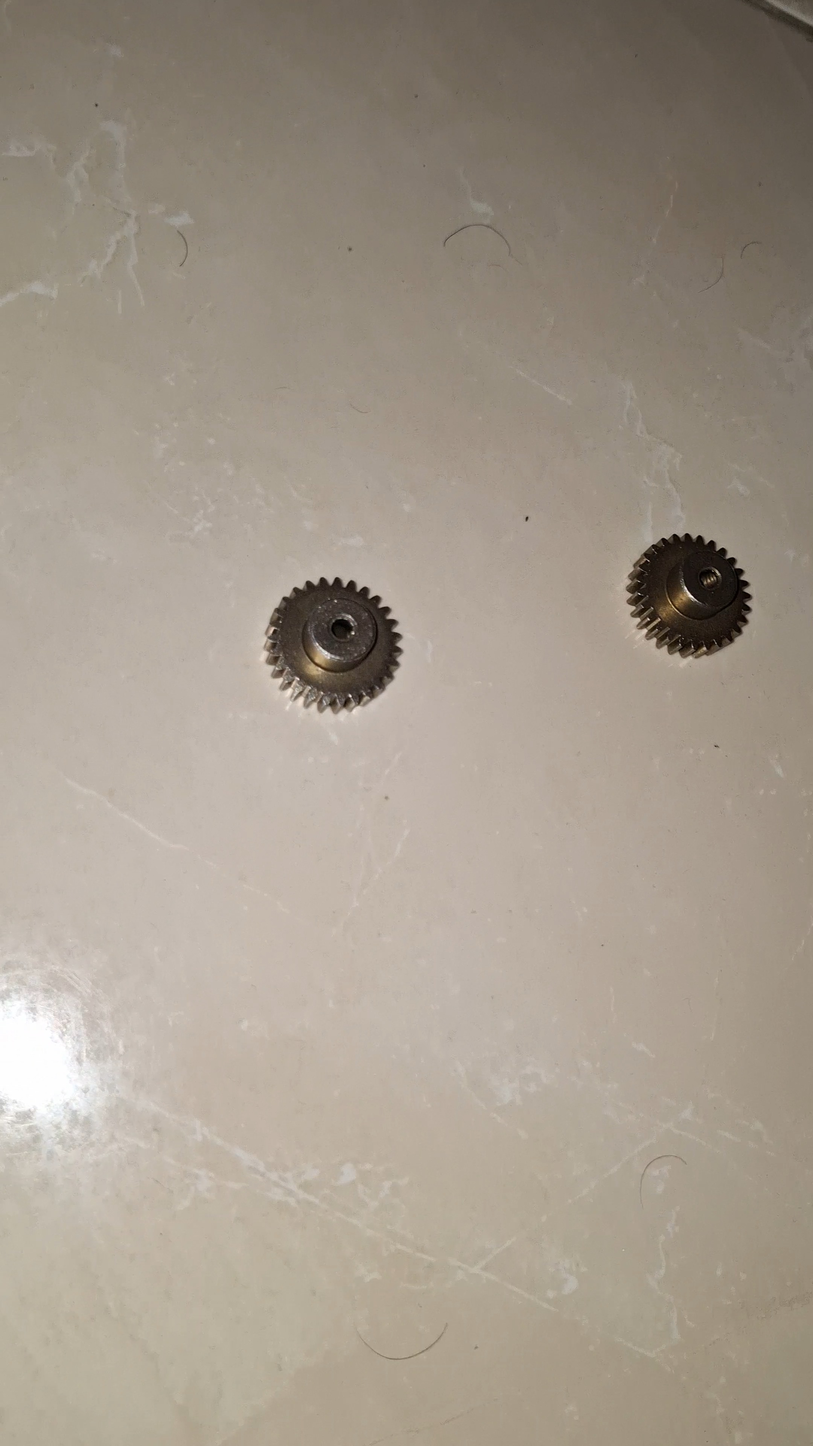spur gear: (266, 578, 401, 711), (628, 534, 750, 656)
